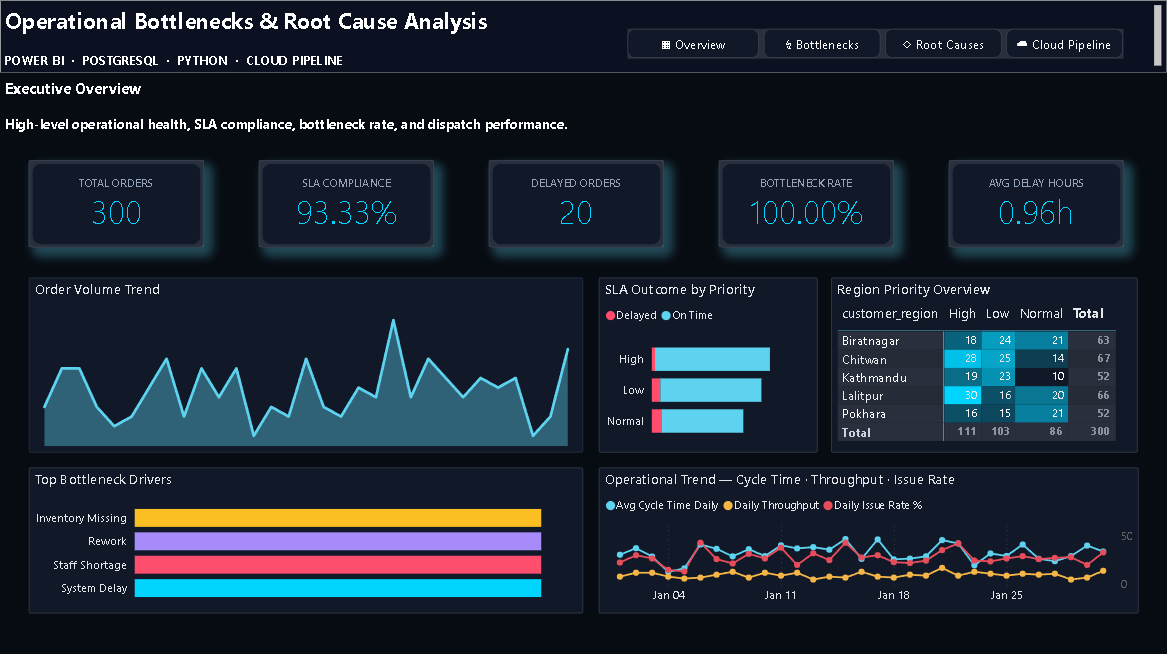

Layout of this report page (visuals, bound fields, positions):
{"tool":"powerbi","page":{"name":"▦ Executive Overview","canvas":[1280,720],"ordinal":0},"visuals":[{"type":"shape","box":[0,0,1280,76],"z":0},{"type":"textbox","box":[0,0,1280,80],"z":1000},{"type":"actionButton","box":[688,32,144,32],"z":2000,"group":"g6"},{"type":"textbox","box":[0,80,1280,80],"z":2000},{"type":"actionButton","box":[837.3,32,128,32],"z":3000,"group":"g6"},{"type":"group","id":"g1","title":"Group 1","box":[32,176,192,96],"z":3000},{"type":"actionButton","box":[1104,32,128,32],"z":4000,"group":"g6"},{"type":"group","id":"g2","title":"Group 1","box":[536,176,192,96],"z":4000},{"type":"actionButton","box":[970.7,32,128,32],"z":5000,"group":"g6"},{"type":"group","id":"g3","title":"Group 1","box":[284,176,192,96],"z":5000},{"type":"group","id":"g4","title":"Group 1","box":[788,176,192,96],"z":6000},{"type":"shape","box":[32,176,192,96],"z":7000,"group":"g7"},{"type":"shape","box":[284,176,192,96],"z":7000,"group":"g3"},{"type":"shape","box":[536,176,192,96],"z":7000,"group":"g2"},{"type":"shape","box":[788,176,192,96],"z":7000,"group":"g4"},{"type":"shape","box":[1040,176,192,96],"z":7000,"group":"g5"},{"type":"areaChart","title":"Order Volume Trend","fields":{"Category":["Date Table.Date"],"Y":["_Measures.Total Orders"]},"box":[32,304,608,192],"z":7000},{"type":"card","title":"TOTAL ORDERS","fields":{"Values":["_Measures.Total Orders"]},"box":[32,192,192,64],"z":7005,"group":"g7"},{"type":"card","title":"SLA COMPLIANCE","fields":{"Values":["_Measures.SLA Compliance"]},"box":[284,192,192,64],"z":7005,"group":"g3"},{"type":"card","title":"DELAYED ORDERS","fields":{"Values":["_Measures.Delayed Orders"]},"box":[536,192,192,64],"z":7005,"group":"g2"},{"type":"card","title":"BOTTLENECK RATE","fields":{"Values":["_Measures.Bottleneck Rate"]},"box":[788,192,192,64],"z":7005,"group":"g4"},{"type":"card","title":"AVG DELAY HOURS","fields":{"Values":["_Measures.Average Delay Hours Label"]},"box":[1040,192,192,64],"z":7005,"group":"g5"},{"type":"barChart","title":"SLA Outcome by Priority","fields":{"Category":["orders.priority"],"Y":["_Measures.Total Orders"],"Series":["orders.SLA Status"]},"box":[656,304,240,192],"z":8000},{"type":"clusteredBarChart","title":"Top Bottleneck Drivers","fields":{"Category":["order_events.issue_type"],"Y":["_Measures.Bottleneck Events"]},"box":[32,512,608,160],"z":9000},{"type":"pivotTable","title":"Region Priority Overview","fields":{"Rows":["orders.customer_region"],"Columns":["orders.priority"],"Values":["_Measures.Total Orders"]},"box":[912,304,336,192],"z":10000},{"type":"group","id":"g5","title":"Group 2","box":[1040,176,192,96],"z":11000},{"type":"group","id":"g6","title":"Group 4","box":[688,32,544,32],"z":12000},{"type":"lineChart","title":"Operational Trend — Cycle Time · Throughput · Issue Rate","fields":{"Y":["_Measures.Avg Cycle Time Daily"],"Category":["Date Table.Date"],"Y2":["_Measures.Daily Throughput","_Measures.Daily Issue Rate %"]},"box":[656,512,592,160],"z":14001},{"type":"group","id":"g7","title":"Group 3","box":[32,176,192,96],"z":15001,"group":"g1"}]}

Visuals, with their boxes in screenshot pixels (x1, y1, x2, y2), scaled from the page's 1280x720 canvas onto the 1167x654 screenshot:
shape: (left=0, top=0, right=1166, bottom=69)
textbox: (left=0, top=0, right=1166, bottom=73)
actionButton: (left=627, top=29, right=759, bottom=58)
textbox: (left=0, top=73, right=1166, bottom=145)
actionButton: (left=763, top=29, right=880, bottom=58)
"Group 1" group: (left=29, top=160, right=204, bottom=247)
actionButton: (left=1007, top=29, right=1123, bottom=58)
"Group 1" group: (left=489, top=160, right=664, bottom=247)
actionButton: (left=885, top=29, right=1002, bottom=58)
"Group 1" group: (left=259, top=160, right=434, bottom=247)
"Group 1" group: (left=718, top=160, right=893, bottom=247)
shape: (left=29, top=160, right=204, bottom=247)
shape: (left=259, top=160, right=434, bottom=247)
shape: (left=489, top=160, right=664, bottom=247)
shape: (left=718, top=160, right=893, bottom=247)
shape: (left=948, top=160, right=1123, bottom=247)
"Order Volume Trend" areaChart: (left=29, top=276, right=584, bottom=451)
"TOTAL ORDERS" card: (left=29, top=174, right=204, bottom=233)
"SLA COMPLIANCE" card: (left=259, top=174, right=434, bottom=233)
"DELAYED ORDERS" card: (left=489, top=174, right=664, bottom=233)
"BOTTLENECK RATE" card: (left=718, top=174, right=893, bottom=233)
"AVG DELAY HOURS" card: (left=948, top=174, right=1123, bottom=233)
"SLA Outcome by Priority" barChart: (left=598, top=276, right=817, bottom=451)
"Top Bottleneck Drivers" clusteredBarChart: (left=29, top=465, right=584, bottom=610)
"Region Priority Overview" pivotTable: (left=831, top=276, right=1138, bottom=451)
"Group 2" group: (left=948, top=160, right=1123, bottom=247)
"Group 4" group: (left=627, top=29, right=1123, bottom=58)
"Operational Trend — Cycle Time · Throughput · Issue Rate" lineChart: (left=598, top=465, right=1138, bottom=610)
"Group 3" group: (left=29, top=160, right=204, bottom=247)
